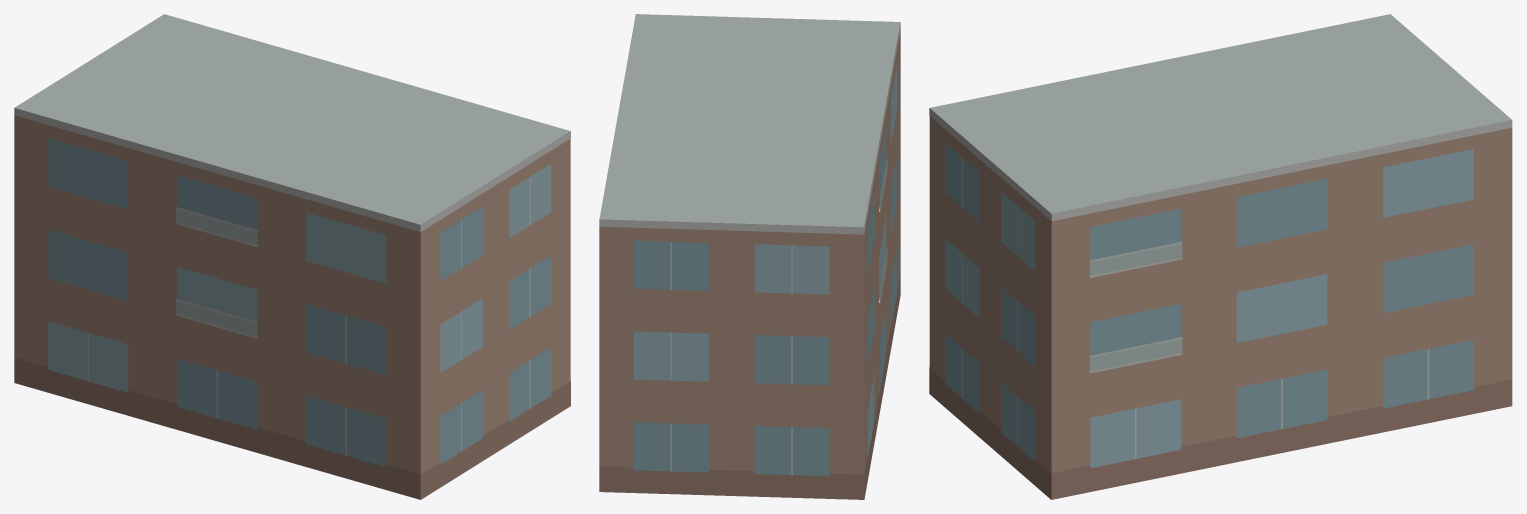
The model's file is survey-upis-32704607.glb.
3 renders of one model, left to right at view 1: azimuth 30°, elevation 25°; view 2: azimuth 150°, elevation 25°; view 3: azimuth 270°, elevation 25°, orthographic. The views are drawn at different scales.
Parts seen in each view (by area): view 1: survey-upis-32704607.tmp; view 2: survey-upis-32704607.tmp; view 3: survey-upis-32704607.tmp.
Part boxes in pixels (box(x1,y1,x2,y2)): survey-upis-32704607.tmp: box(14, 14, 570, 499); survey-upis-32704607.tmp: box(599, 14, 900, 499); survey-upis-32704607.tmp: box(929, 14, 1512, 499).
Size of the model in its own units: 13.71 by 9.15 by 16.9.
